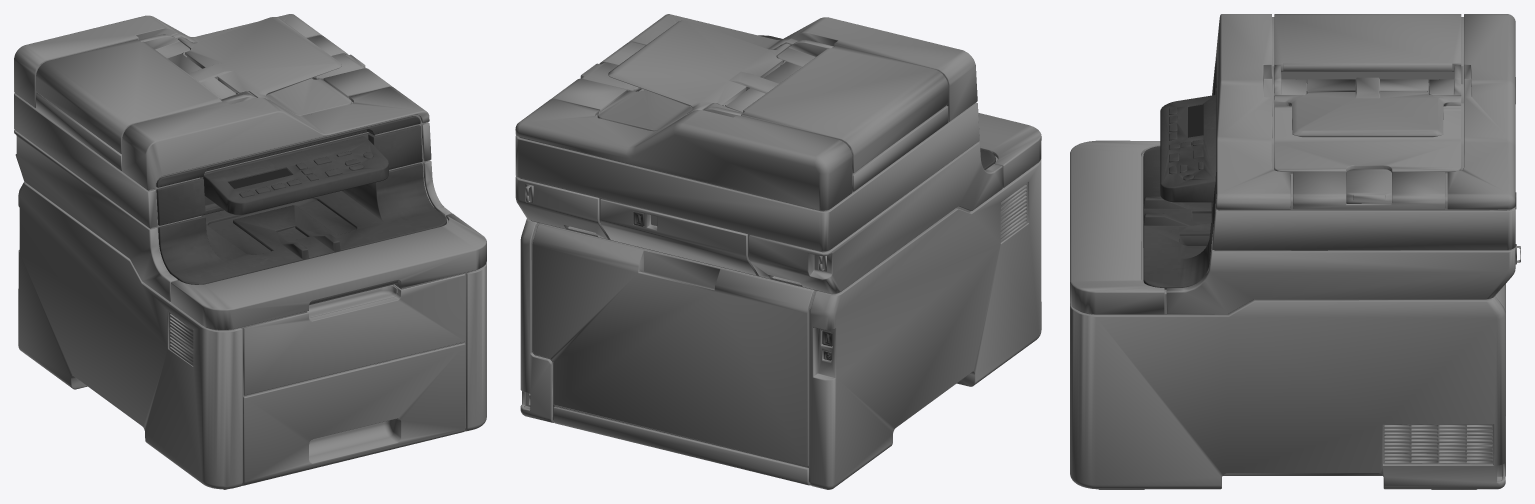
File: computer_printer_office_a01.glb
The picture shows the model from 3 angles, left to right: view 1: azimuth 30°, elevation 25°; view 2: azimuth 150°, elevation 25°; view 3: azimuth 270°, elevation 25°; orthographic projection. The views are drawn at different scales.
Parts seen in each view (by area): view 1: sm_computer_printer_office_a01_mesh_00; view 2: sm_computer_printer_office_a01_mesh_00; view 3: sm_computer_printer_office_a01_mesh_00.
Boxes of the visible parts, box(x1,y1,x2,y2) form: sm_computer_printer_office_a01_mesh_00: box(14, 14, 486, 489); sm_computer_printer_office_a01_mesh_00: box(515, 14, 1041, 489); sm_computer_printer_office_a01_mesh_00: box(1070, 14, 1520, 489).
Size of the model in its own units: 0.4065 by 0.4283 by 0.511.
3 materials, 1 textured.
